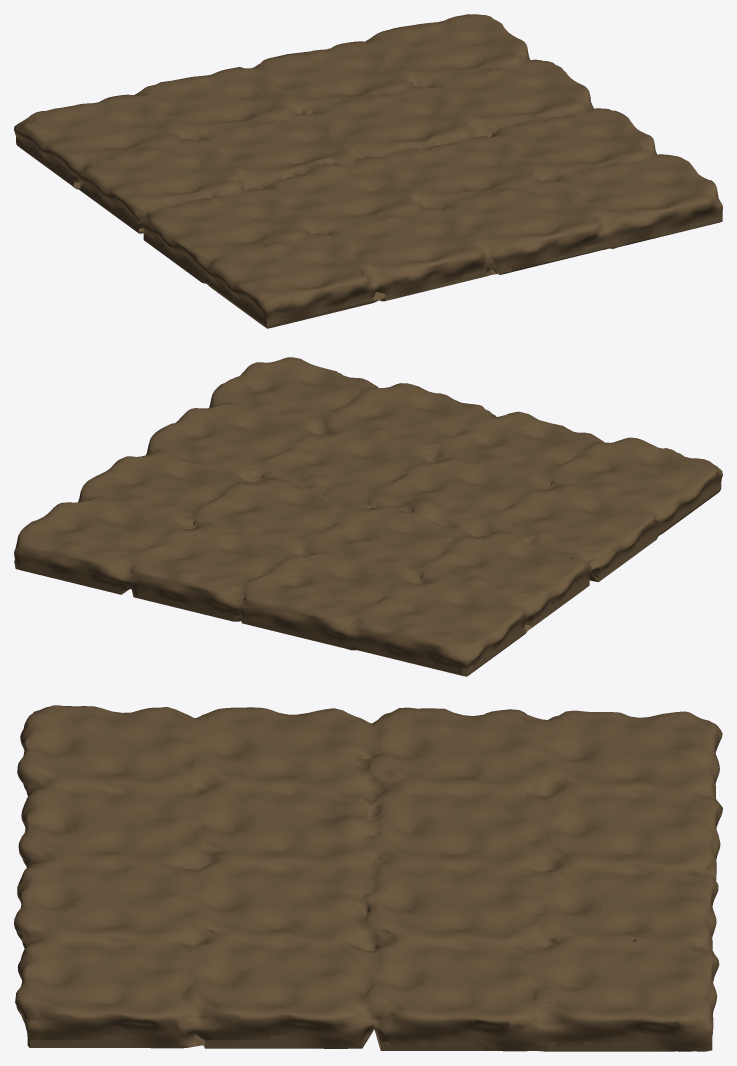
Rendered from road.glb.
3 renders of one model, top to bottom at view 1: azimuth 30°, elevation 25°; view 2: azimuth 150°, elevation 25°; view 3: azimuth 270°, elevation 25°, orthographic. The views are drawn at different scales.
Parts seen in each view (by area): view 1: 立方体.023; view 2: 立方体.023; view 3: 立方体.023.
Part boxes in pixels (x1,y1,x2,y2): 立方体.023: (14,14,722,328); 立方体.023: (14,357,722,676); 立方体.023: (14,705,722,1051).
Bounding box in the file's own units: 1.59 × 0.1173 × 1.53.
